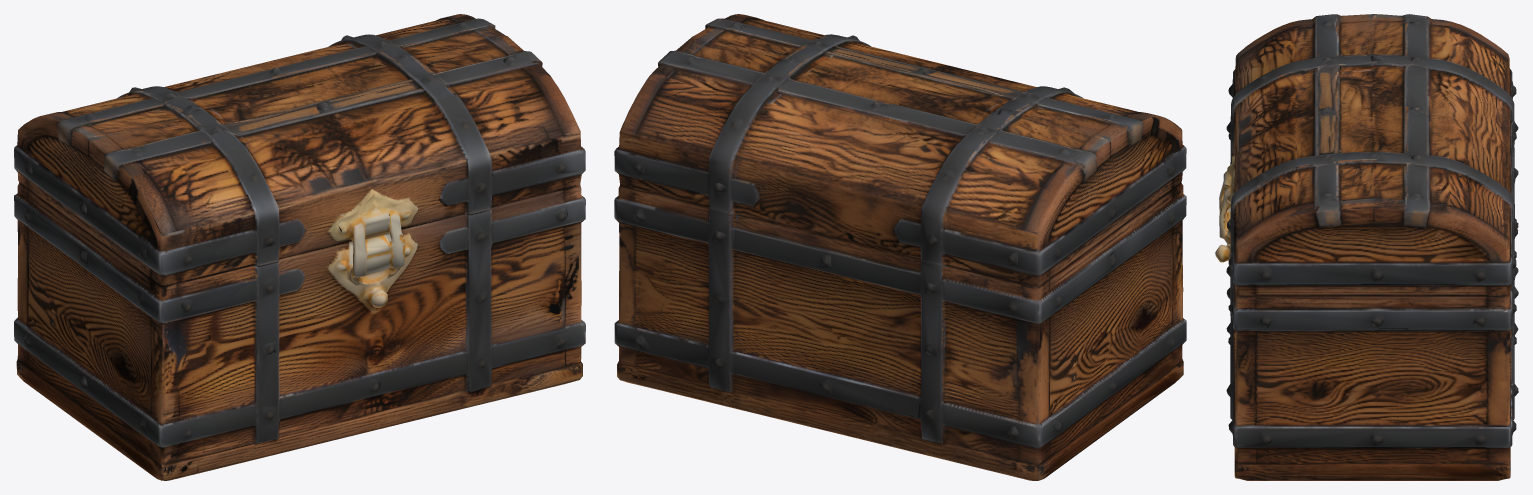
File: chest-production-lowpoly.glb
3 renders of one model, left to right at view 1: azimuth 30°, elevation 25°; view 2: azimuth 150°, elevation 25°; view 3: azimuth 270°, elevation 25°, orthographic. The views are drawn at different scales.
Visible parts, largest first — view 1: material; view 2: material; view 3: material.
Boxes of the visible parts, x1=… form: material: x1=14, y1=14, x2=585, y2=480; material: x1=614, y1=14, x2=1186, y2=480; material: x1=1215, y1=14, x2=1518, y2=480.
Size of the model in its own units: 0.9202 by 0.6058 by 0.5907.
Materials: 1 (1 with a texture image).
